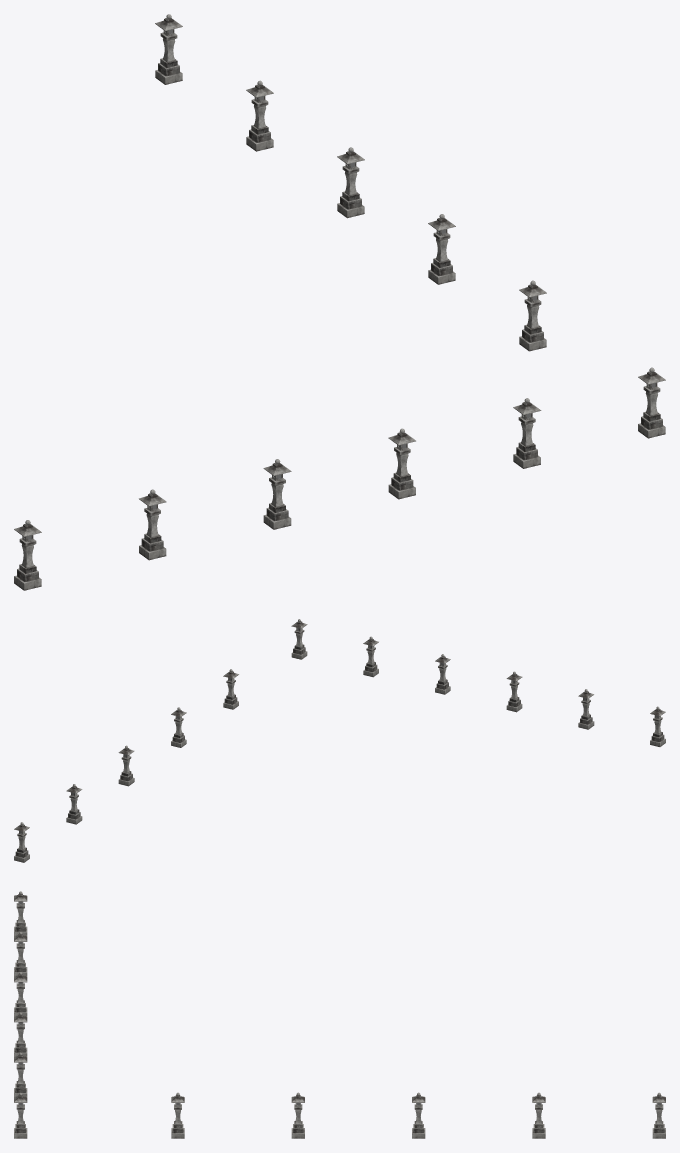
The model's file is StoneLamp.fbx.
3 renders of one model, top to bottom at view 1: azimuth 30°, elevation 25°; view 2: azimuth 150°, elevation 25°; view 3: azimuth 270°, elevation 25°, orthographic. The views are drawn at different scales.
Visible parts, largest first — view 1: Box037; view 2: Box037; view 3: Box037.
Part boxes in pixels (x1,y1,x2,y2): Box037: [14, 14, 665, 590]; Box037: [14, 619, 665, 862]; Box037: [14, 891, 665, 1138].
Size of the model in its own units: 34.74 by 3.35 by 46.23.
